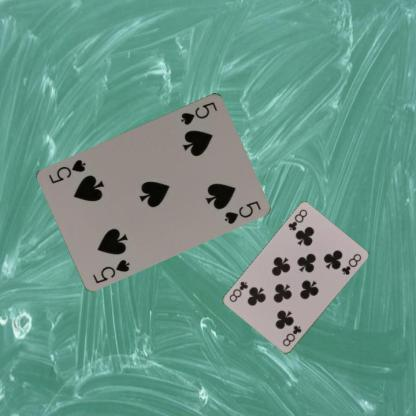5s: (90, 256, 131, 284), (178, 99, 219, 126)
8c: (280, 323, 303, 348), (286, 207, 308, 232)
